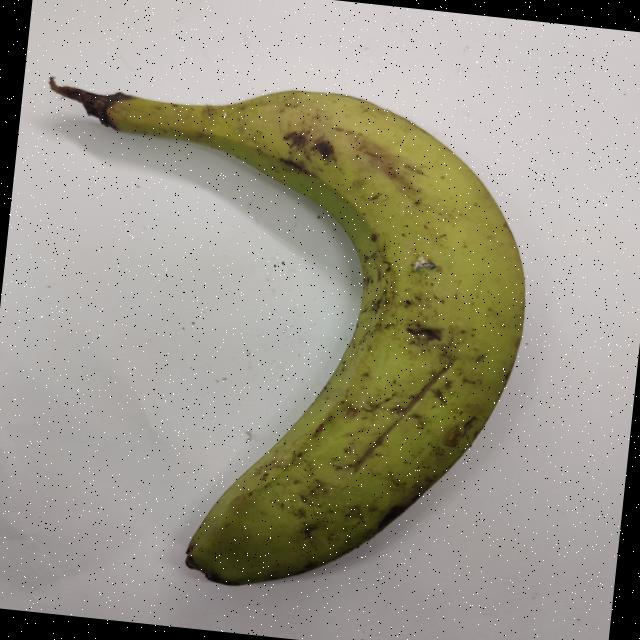Raw: (0, 31, 597, 640)
